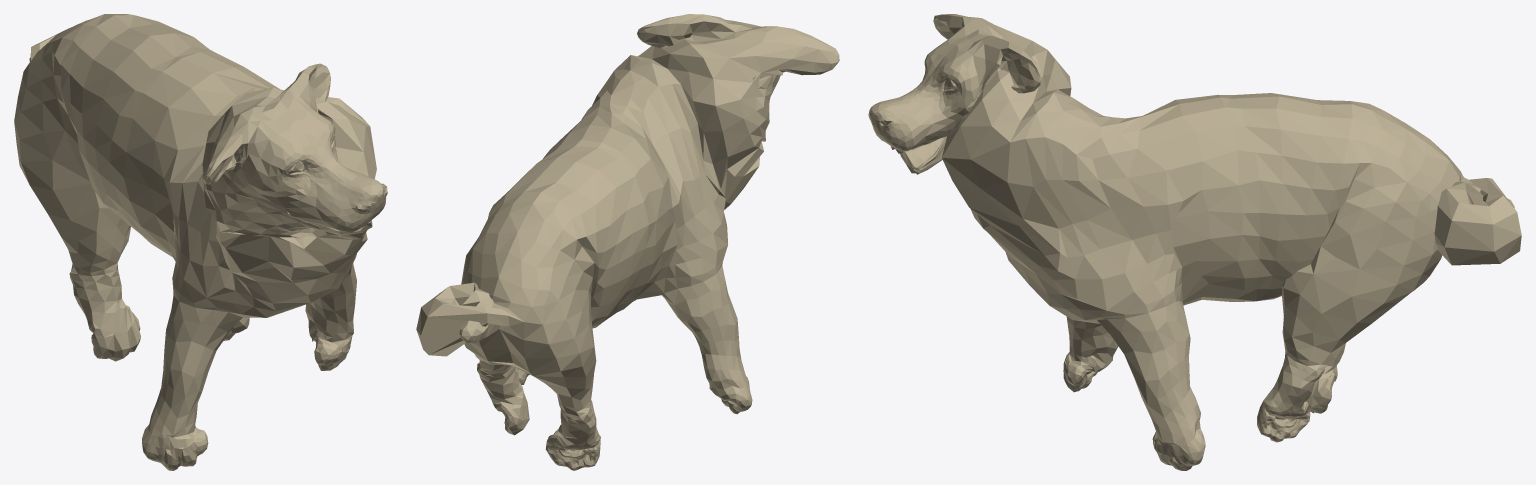
The picture shows the model from 3 angles, left to right: view 1: azimuth 30°, elevation 25°; view 2: azimuth 150°, elevation 25°; view 3: azimuth 270°, elevation 25°; orthographic projection. The views are drawn at different scales.
Parts seen in each view (by area): view 1: world; view 2: world; view 3: world.
Part boxes in pixels (x1,y1,x2,y2): world: [14, 14, 387, 470]; world: [416, 14, 839, 470]; world: [868, 14, 1521, 470].
Size of the model in its own units: 0.5005 by 0.7075 by 1.07.
